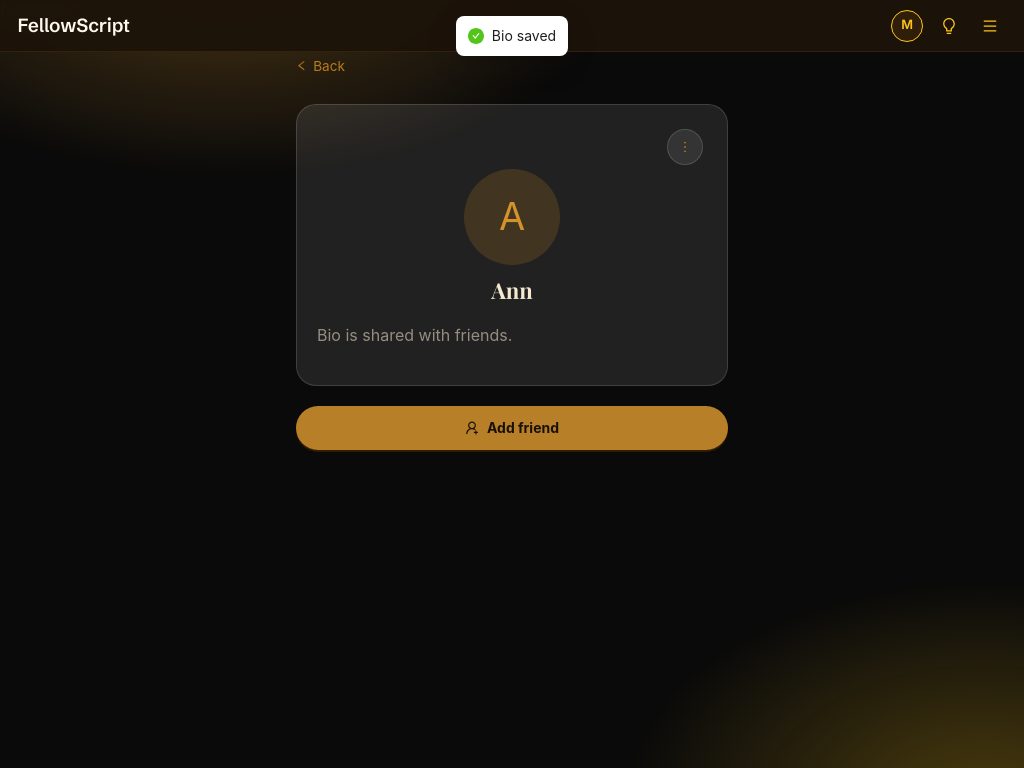
Profile page friend actions › 429 on request shows the generic slow-down copy
Click the button with aria-label "add ann as a friend" at (512, 428), box [296,406,728,450]
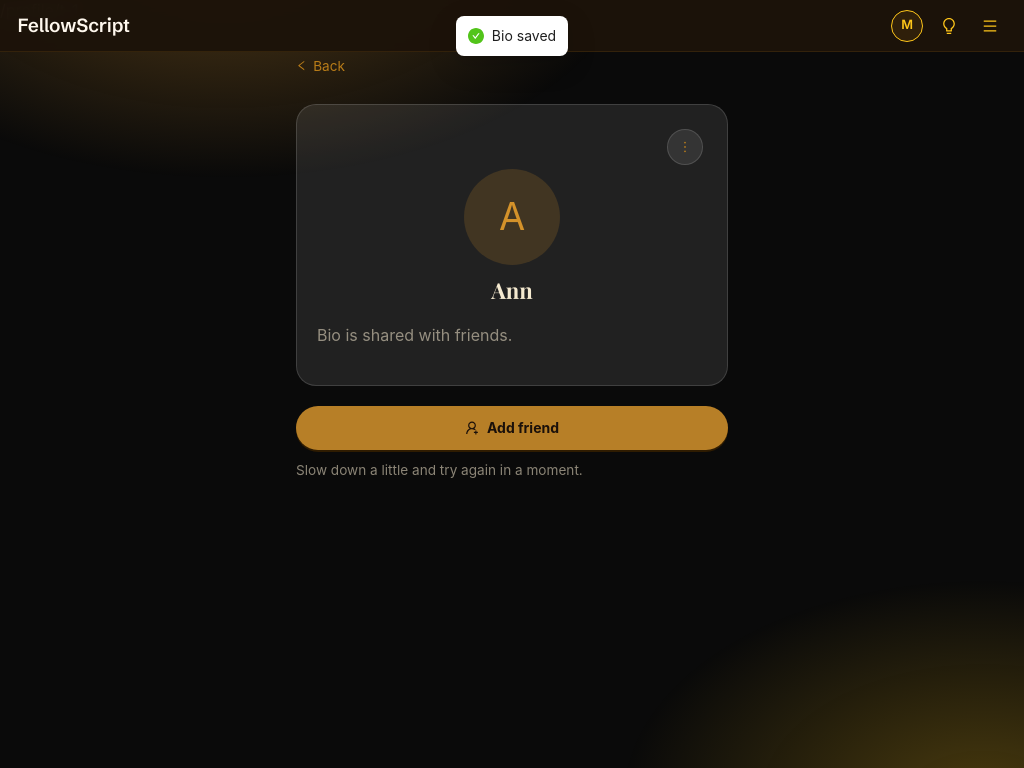
Result: the text "Slow down a little and try again in a moment." is shown at [296,462,583,478]
